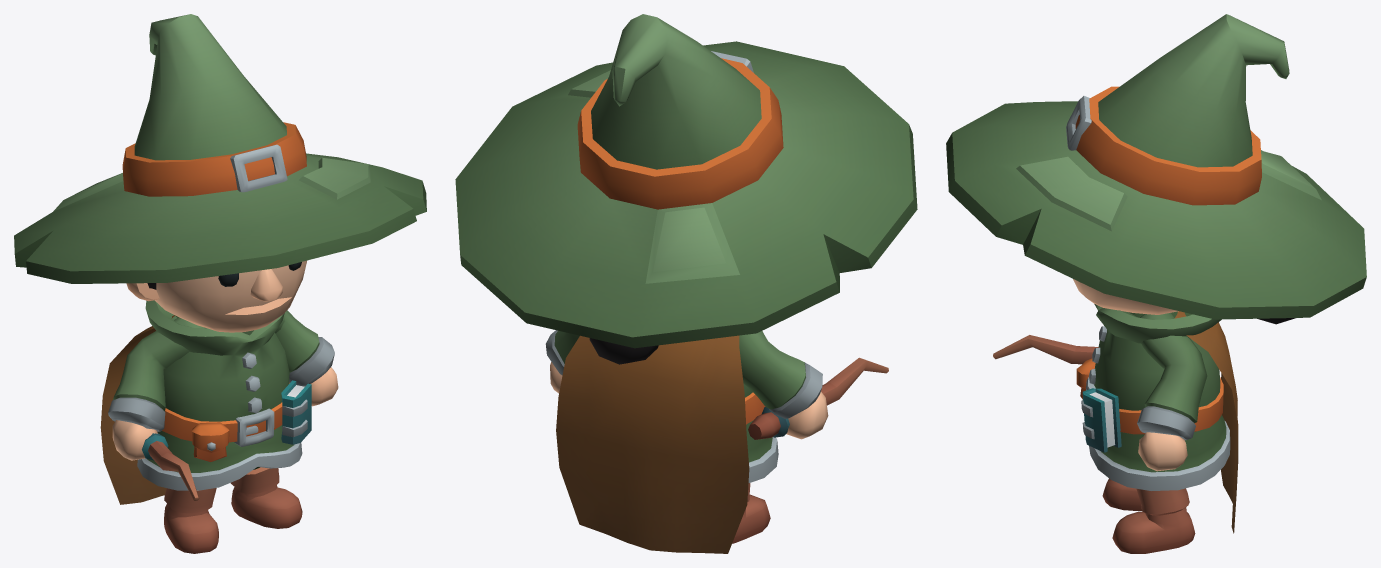
The picture shows the model from 3 angles, left to right: view 1: azimuth 30°, elevation 25°; view 2: azimuth 150°, elevation 25°; view 3: azimuth 270°, elevation 25°; orthographic projection. The views are drawn at different scales.
Visible parts, largest first — view 1: Mage_Hat, Mage_Body, Mage_Head, Mage_ArmRight, Mage_Cape, Mage_ArmLeft, Mage_LegLeft, Mage_LegRight, 1H_Wand; view 2: Mage_Hat, Mage_Cape, Mage_ArmRight, 1H_Wand, Mage_Body, Mage_ArmLeft, Mage_LegRight, Mage_Head; view 3: Mage_Hat, Mage_Body, Mage_ArmLeft, Mage_LegLeft, Mage_Cape, 1H_Wand, Mage_Head, Mage_LegRight.
Part boxes in pixels (bbox=[...]): Mage_Hat: bbox=[14, 14, 426, 283]; Mage_Body: bbox=[137, 300, 311, 490]; Mage_Head: bbox=[126, 260, 306, 332]; Mage_ArmRight: bbox=[108, 317, 205, 460]; Mage_Cape: bbox=[100, 315, 174, 504]; Mage_ArmLeft: bbox=[275, 310, 338, 406]; Mage_LegLeft: bbox=[230, 467, 302, 528]; Mage_LegRight: bbox=[164, 488, 218, 553]; 1H_Wand: bbox=[142, 433, 199, 501]; Mage_Hat: bbox=[455, 14, 917, 348]; Mage_Cape: bbox=[556, 335, 749, 553]; Mage_ArmRight: bbox=[739, 331, 828, 439]; 1H_Wand: bbox=[748, 357, 888, 439]; Mage_Body: bbox=[743, 384, 778, 482]; Mage_ArmLeft: bbox=[545, 330, 579, 393]; Mage_LegRight: bbox=[732, 483, 770, 543]; Mage_Head: bbox=[589, 338, 658, 364]; Mage_Hat: bbox=[946, 14, 1366, 319]; Mage_Body: bbox=[1076, 304, 1230, 490]; Mage_ArmLeft: bbox=[1137, 313, 1207, 471]; Mage_LegLeft: bbox=[1112, 488, 1195, 553]; Mage_Cape: bbox=[1174, 311, 1238, 533]; 1H_Wand: bbox=[993, 335, 1098, 364]; Mage_Head: bbox=[1073, 279, 1295, 324]; Mage_LegRight: bbox=[1102, 478, 1142, 511].
Size of the model in its own units: 1.71 by 2.2 by 1.67.
1 material, 1 textured.
